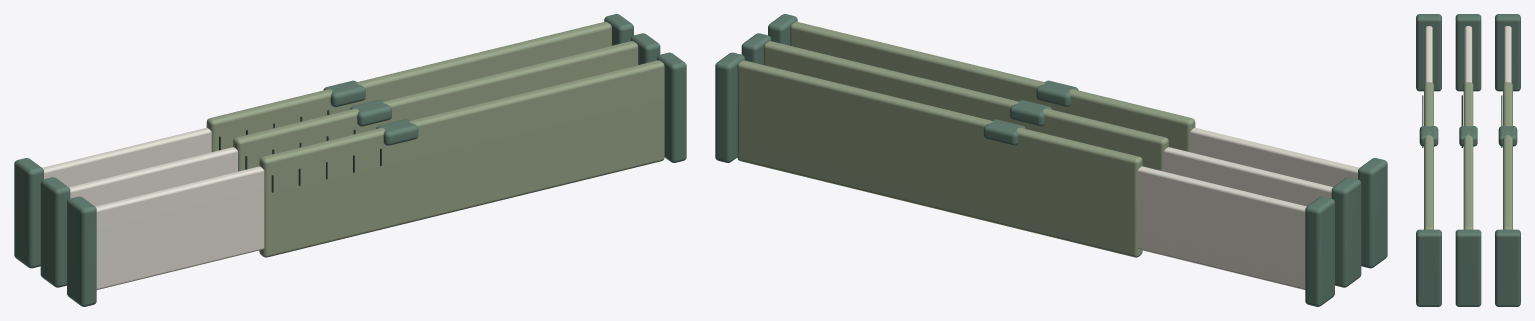
File: drawer-dividers.glb
3 views of the same model, side by side, from view 1: azimuth 30°, elevation 25°; view 2: azimuth 150°, elevation 25°; view 3: azimuth 270°, elevation 25° (orthographic). The views are drawn at different scales.
Visible parts, largest first — view 1: Outer divider rail, Sliding inner rail, Outer divider rail.001, Outer divider rail.002, Sliding inner rail.002, Sliding inner rail.001, Soft end pad, Soft end pad.002, Soft end pad.004, Soft end pad.001, Release.002, Release (+3 smaller); view 2: Outer divider rail.002, Sliding inner rail.002, Outer divider rail.001, Outer divider rail, Sliding inner rail, Sliding inner rail.001, Soft end pad.004, Soft end pad.002, Soft end pad, Soft end pad.005, Release, Release.002 (+3 smaller); view 3: Soft end pad.003, Soft end pad.001, Soft end pad.005, Soft end pad.002, Soft end pad, Soft end pad.004, Outer divider rail.001, Outer divider rail, Outer divider rail.002, Sliding inner rail.001, Sliding inner rail, Sliding inner rail.002 (+3 smaller).
Boxes of the visible parts, left/top/right/bottom form: Outer divider rail: left=259, top=60, right=664, bottom=257; Sliding inner rail: left=95, top=166, right=264, bottom=289; Outer divider rail.001: left=233, top=41, right=638, bottom=171; Outer divider rail.002: left=206, top=21, right=611, bottom=151; Sliding inner rail.002: left=42, top=127, right=211, bottom=186; Sliding inner rail.001: left=69, top=147, right=237, bottom=206; Soft end pad: left=67, top=196, right=96, bottom=306; Soft end pad.002: left=40, top=177, right=70, bottom=287; Soft end pad.004: left=14, top=158, right=43, bottom=268; Soft end pad.001: left=657, top=52, right=686, bottom=162; Release.002: left=323, top=80, right=365, bottom=107; Release: left=376, top=119, right=418, bottom=145; Outer divider rail.002: left=737, top=60, right=1142, bottom=257; Sliding inner rail.002: left=1137, top=166, right=1306, bottom=289; Outer divider rail.001: left=763, top=41, right=1168, bottom=171; Outer divider rail: left=790, top=21, right=1195, bottom=151; Sliding inner rail: left=1190, top=127, right=1359, bottom=186; Sliding inner rail.001: left=1164, top=147, right=1332, bottom=206; Soft end pad.004: left=1305, top=196, right=1334, bottom=306; Soft end pad.002: left=1331, top=177, right=1361, bottom=287; Soft end pad: left=1358, top=158, right=1387, bottom=268; Soft end pad.005: left=715, top=52, right=744, bottom=162; Release: left=1036, top=80, right=1078, bottom=107; Release.002: left=983, top=119, right=1025, bottom=145; Soft end pad.003: left=1455, top=229, right=1481, bottom=306; Soft end pad.001: left=1416, top=229, right=1441, bottom=306; Soft end pad.005: left=1495, top=229, right=1520, bottom=306; Soft end pad.002: left=1455, top=14, right=1481, bottom=91; Soft end pad: left=1416, top=14, right=1441, bottom=91; Soft end pad.004: left=1495, top=14, right=1520, bottom=91; Outer divider rail.001: left=1463, top=82, right=1473, bottom=229; Outer divider rail: left=1424, top=82, right=1433, bottom=229; Outer divider rail.002: left=1503, top=82, right=1512, bottom=229; Sliding inner rail.001: left=1464, top=26, right=1472, bottom=82; Sliding inner rail: left=1425, top=26, right=1432, bottom=82; Sliding inner rail.002: left=1504, top=26, right=1511, bottom=82.
Bounding box in the file's own units: 0.45 × 0.07 × 0.09.
